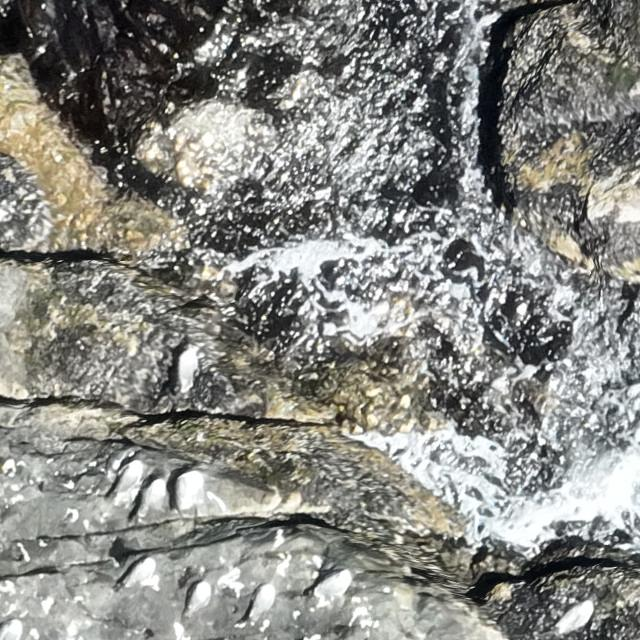umineko: (133, 478, 164, 519), (112, 462, 143, 503), (120, 557, 160, 586), (315, 572, 352, 603), (558, 600, 594, 630), (178, 347, 198, 398), (249, 582, 272, 626), (176, 472, 200, 514), (186, 578, 212, 614), (515, 300, 527, 326)
